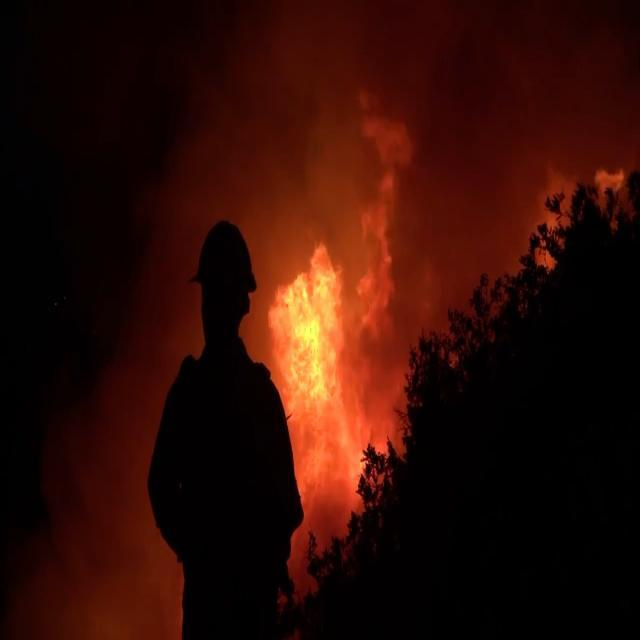Fire: (274, 110, 409, 523)
